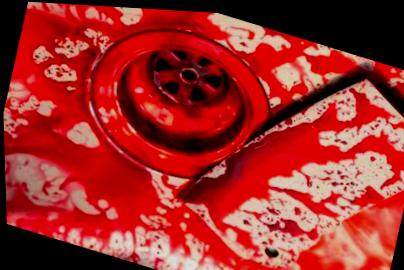Fire: (3, 1, 404, 270), (178, 74, 404, 265), (84, 25, 268, 175)
